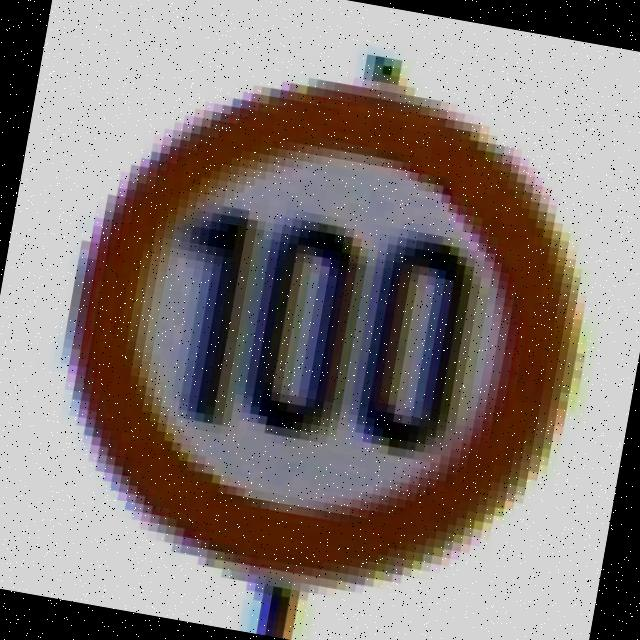Ograniczenie predkosci do 100: (32, 36, 616, 626)
